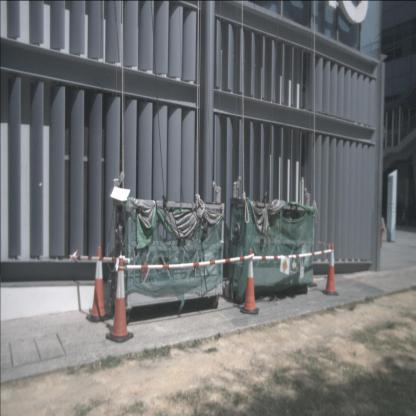movable_object-trafficcone: (105, 259, 134, 343), (86, 247, 108, 322), (238, 248, 260, 314), (322, 242, 339, 296)
